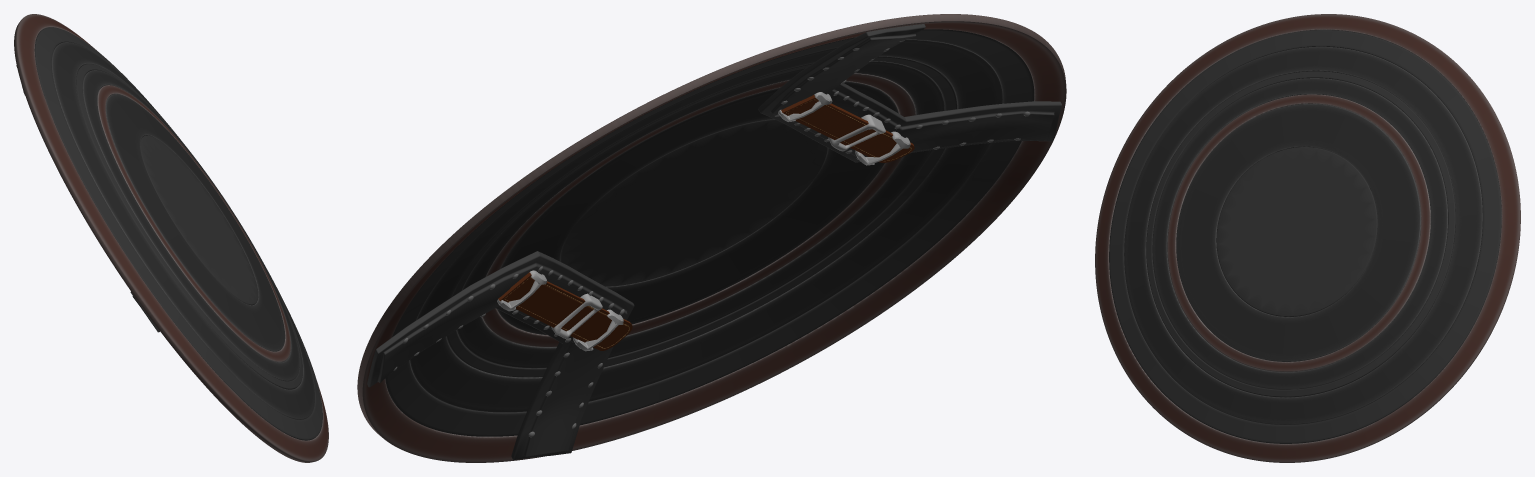
File: jwshield.glb
3 renders of one model, left to right at view 1: azimuth 30°, elevation 25°; view 2: azimuth 150°, elevation 25°; view 3: azimuth 270°, elevation 25°, orthographic. The views are drawn at different scales.
Parts seen in each view (by area): view 1: Shield; view 2: Shield, Attachment, left strap, right strap, Nails, left buckle, right buckle, center buckle 2; view 3: Shield.
Part boxes in pixels (left/top/right/bottom): Shield: left=14, top=14, right=328, bottom=462; Shield: left=357, top=14, right=1066, bottom=462; Attachment: left=367, top=24, right=1061, bottom=459; left strap: left=498, top=272, right=632, bottom=350; right strap: left=781, top=95, right=914, bottom=162; Nails: left=393, top=40, right=1030, bottom=437; left buckle: left=497, top=270, right=623, bottom=351; right buckle: left=778, top=92, right=910, bottom=165; center buckle 2: left=828, top=114, right=885, bottom=151; Shield: left=1095, top=14, right=1520, bottom=462.
Bounding box in the file's own units: 1 × 1.16 × 1.31.
Materials: 6 (3 with a texture image).
